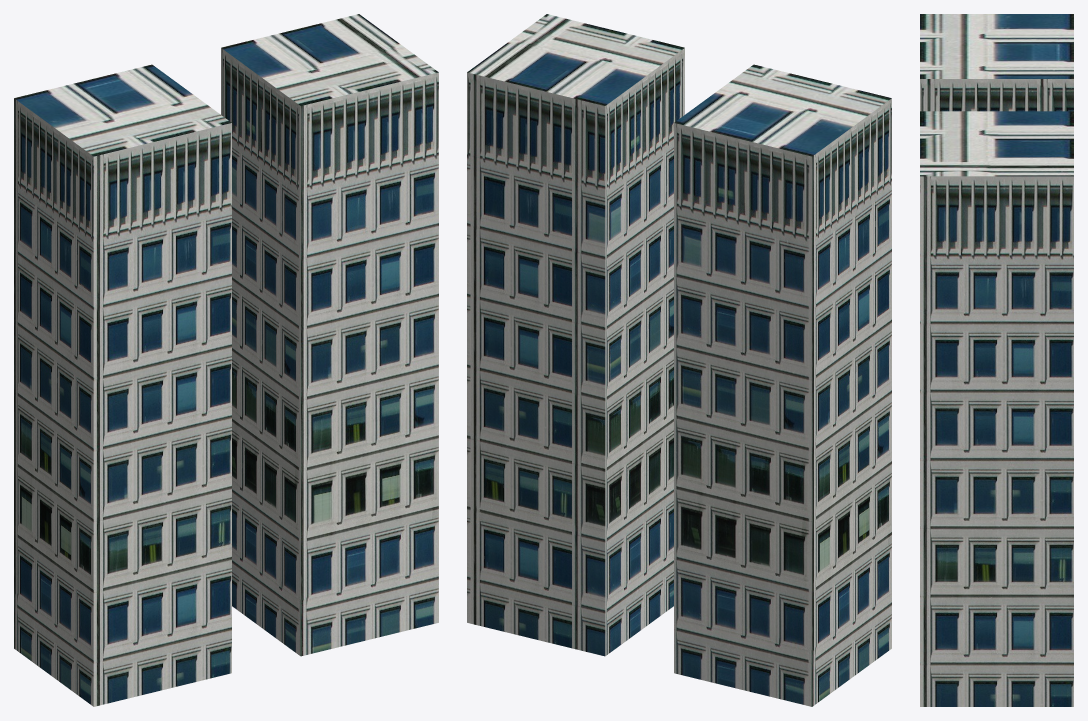
File: building.glb
3 renders of one model, left to right at view 1: azimuth 30°, elevation 25°; view 2: azimuth 150°, elevation 25°; view 3: azimuth 270°, elevation 25°, orthographic. The views are drawn at different scales.
Parts seen in each view (by area): view 1: Plane; view 2: Plane; view 3: Plane.
Boxes of the visible parts, left/top/right/bottom form: Plane: left=14, top=14, right=438, bottom=706; Plane: left=467, top=14, right=891, bottom=706; Plane: left=920, top=14, right=1073, bottom=706.
Size of the model in its own units: 6.56 by 10 by 2.63.
Materials: 1 (1 with a texture image).
